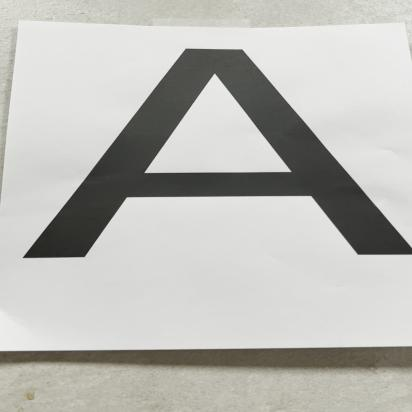seat: (22, 43, 412, 269)
